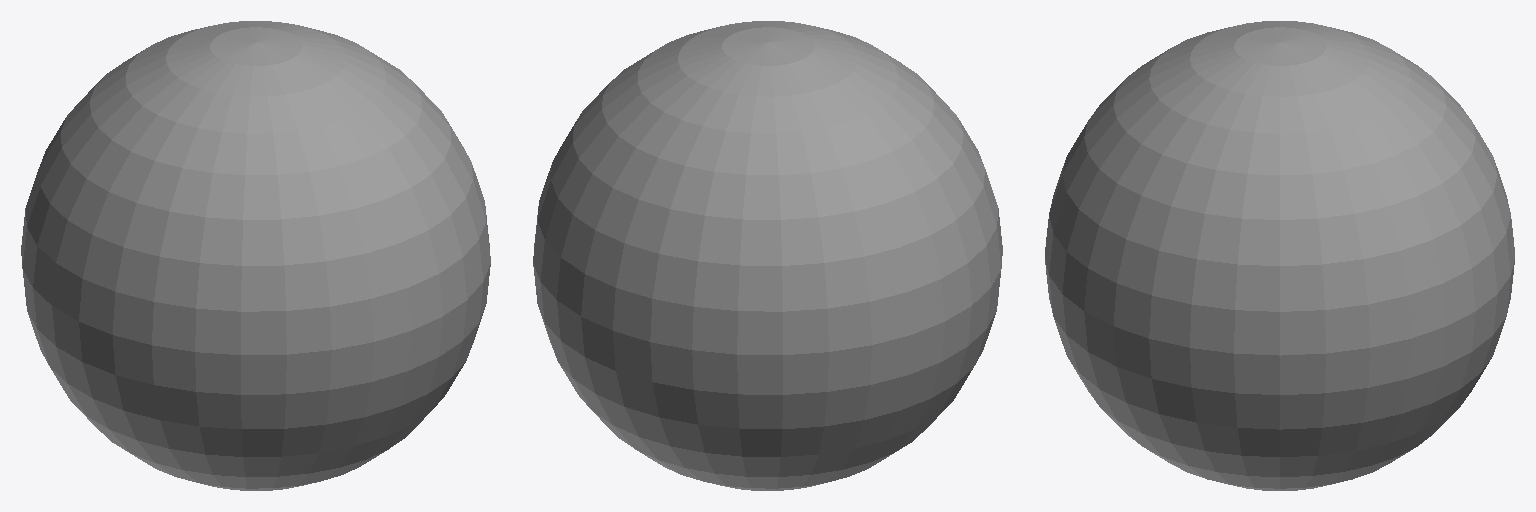
The model's file is lamp.obj.
3 renders of one model, left to right at view 1: azimuth 30°, elevation 25°; view 2: azimuth 150°, elevation 25°; view 3: azimuth 270°, elevation 25°, orthographic.
Bounding box in the file's own units: 0.5784 × 0.5784 × 0.5784.